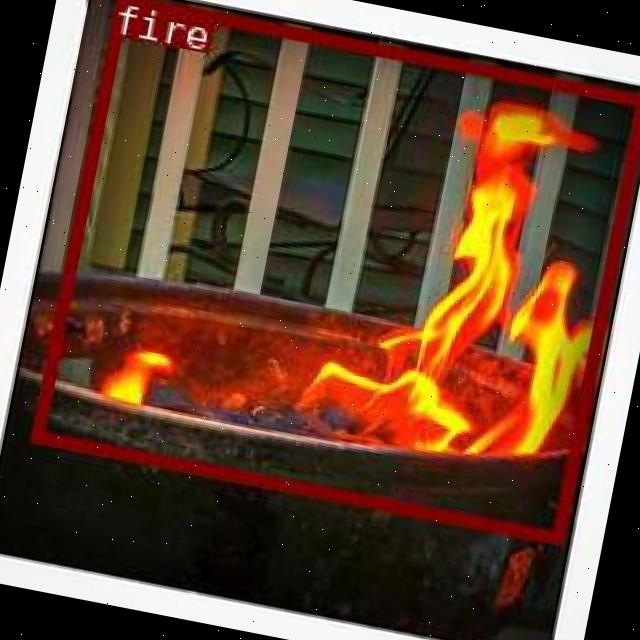fire: (28, 0, 640, 541)
